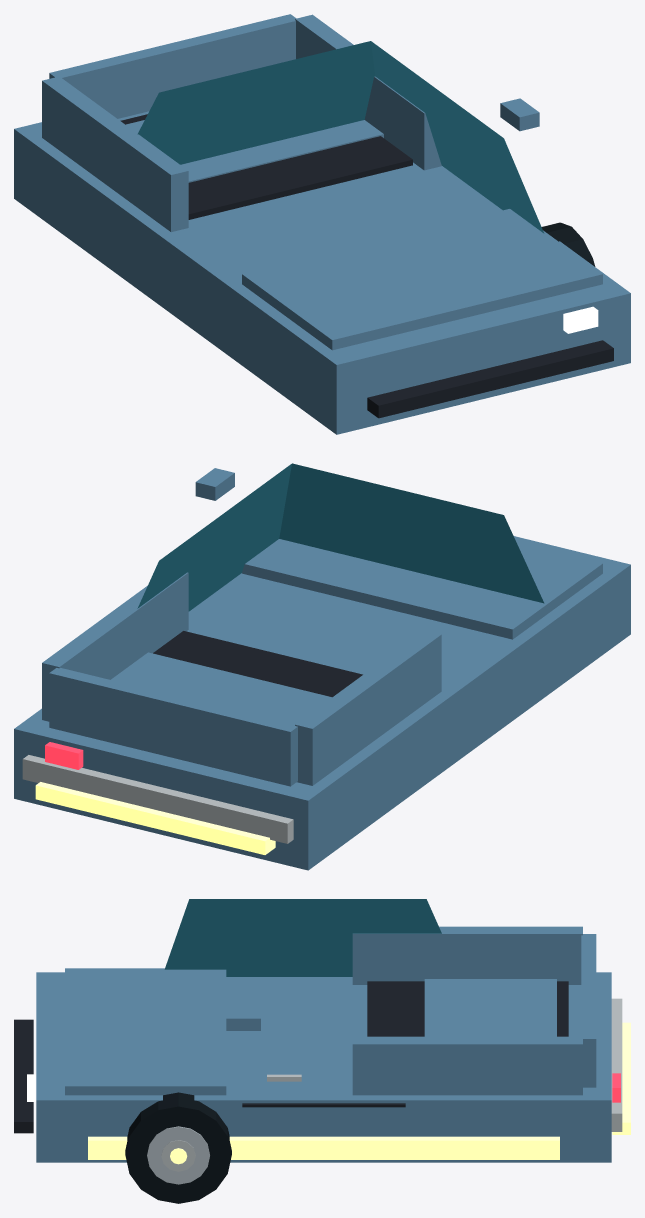
File: pickup.glb
3 renders of one model, top to bottom at view 1: azimuth 30°, elevation 25°; view 2: azimuth 150°, elevation 25°; view 3: azimuth 270°, elevation 25°, orthographic. The views are drawn at different scales.
Visible parts, largest first — view 1: sculpted lower body, formed hood, faceted glass cabin, pickup tailgate, pickup bed wall left, pickup bed floor, front splitter, pickup bed wall right, rear deck, side mirror, rubber tire, front LED; view 2: sculpted lower body, faceted glass cabin, pickup tailgate, formed hood, pickup bed wall left, pickup bed wall right, rear deck, pickup rear bumper, pickup bed floor, rear diffuser, side mirror, rear LED; view 3: sculpted lower body, formed hood, faceted glass cabin, pickup bed wall right, pickup bed wall left, side skirt, rear deck, rubber tire, pickup bed floor, pickup tailgate, front splitter, machined wheel face (+5 smaller).
Part boxes in pixels (x1=…): sculpted lower body: x1=14, y1=111, x2=630, y2=434; formed hood: x1=242, y1=209, x2=602, y2=350; faceted glass cabin: x1=137, y1=41, x2=544, y2=233; pickup tailgate: x1=49, y1=14, x2=296, y2=118; pickup bed wall left: x1=42, y1=76, x2=188, y2=232; pickup bed floor: x1=120, y1=114, x2=412, y2=219; front splitter: x1=367, y1=340, x2=613, y2=418; pickup bed wall right: x1=295, y1=14, x2=441, y2=170; rear deck: x1=126, y1=120, x2=383, y2=182; side mirror: x1=500, y1=98, x2=539, y2=131; rubber tire: x1=541, y1=222, x2=595, y2=266; front LED: x1=563, y1=306, x2=598, y2=333; sculpted lower body: x1=14, y1=536, x2=630, y2=870; faceted glass cabin: x1=137, y1=463, x2=544, y2=611; pickup tailgate: x1=49, y1=668, x2=297, y2=786; formed hood: x1=242, y1=539, x2=602, y2=639; pickup bed wall left: x1=295, y1=630, x2=441, y2=785; pickup bed wall right: x1=42, y1=572, x2=188, y2=721; rear deck: x1=111, y1=652, x2=331, y2=724; pickup rear bumper: x1=22, y1=755, x2=293, y2=843; pickup bed floor: x1=153, y1=631, x2=362, y2=697; rear diffuser: x1=35, y1=782, x2=275, y2=854; side mirror: x1=195, y1=468, x2=234, y2=500; rear LED: x1=45, y1=742, x2=83, y2=769; sculpted lower body: x1=36, y1=972, x2=611, y2=1162; formed hood: x1=65, y1=968, x2=226, y2=1095; faceted glass cabin: x1=164, y1=899, x2=441, y2=976; pickup bed wall right: x1=352, y1=1036, x2=582, y2=1095; pickup bed wall left: x1=352, y1=926, x2=582, y2=984; side skirt: x1=88, y1=1136, x2=559, y2=1159; rear deck: x1=424, y1=979, x2=556, y2=1036; rubber tire: x1=125, y1=1092, x2=231, y2=1203; pickup bed floor: x1=367, y1=981, x2=568, y2=1036; pickup tailgate: x1=581, y1=934, x2=596, y2=1087; front splitter: x1=14, y1=1019, x2=33, y2=1133; machined wheel face: x1=147, y1=1126, x2=209, y2=1184.
Bounding box in the file's own units: 2.8 × 1.75 × 5.28.
